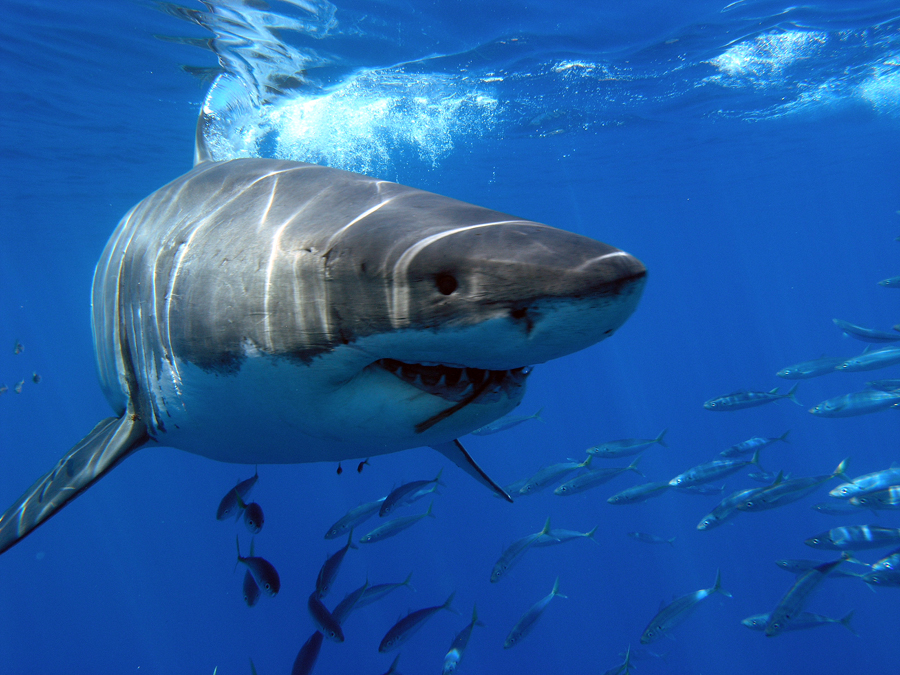Carcharodon_carcharias: (2, 76, 675, 560)
